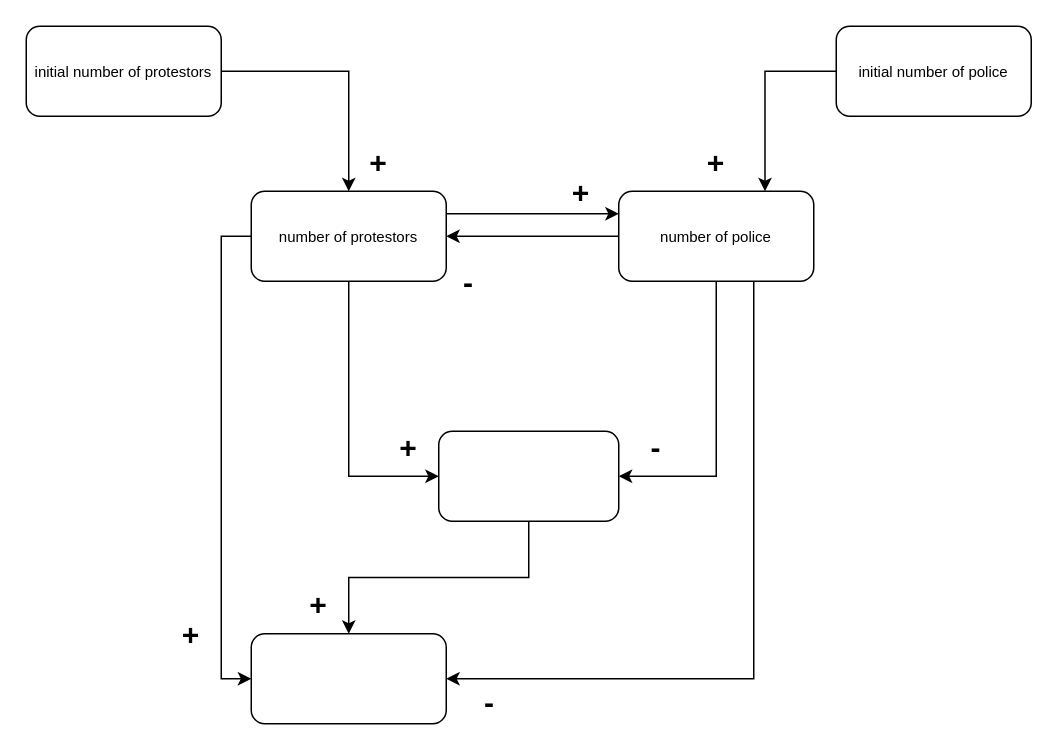
Some shapes in this 1058 by 750 pixel diagram are drawn without their labels. The shapes that lost their labels are listed below. From the top down, each one's box as (x1, y1, x2, y2) in pixels, then its label:
(437, 430, 619, 521): number of bystanders
(250, 632, 446, 724): number of attendees
